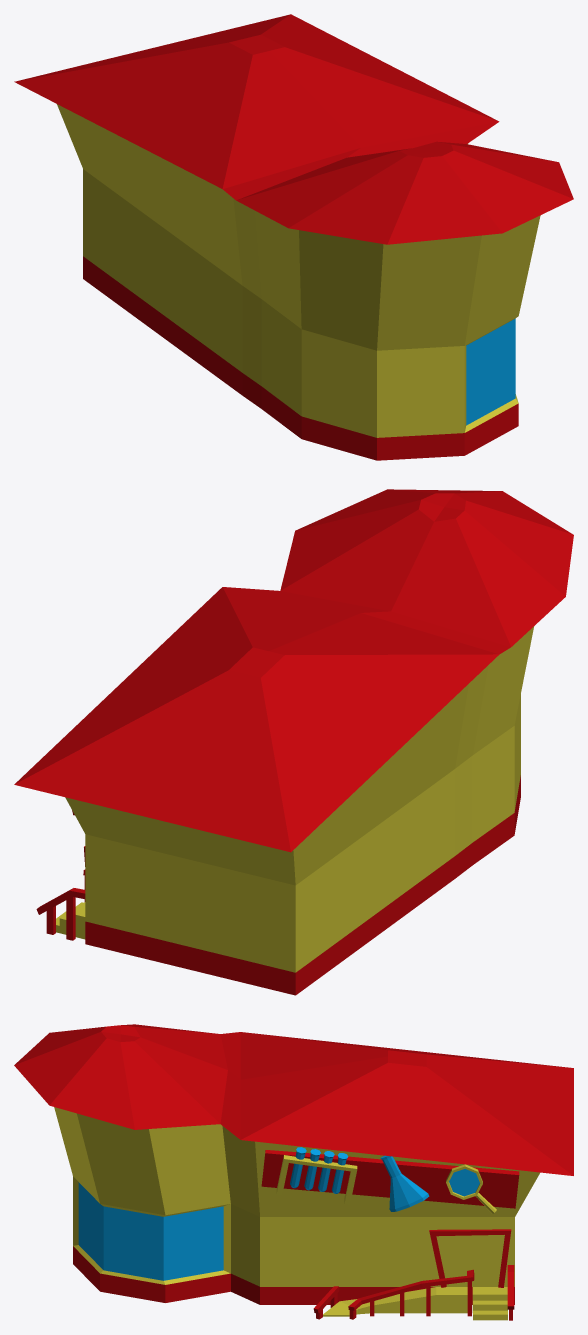
The model's file is 27.06_Bubuia_laboratorio1-1.fbx.
3 views of the same model, one above another, from view 1: azimuth 30°, elevation 25°; view 2: azimuth 150°, elevation 25°; view 3: azimuth 270°, elevation 25° (orthographic). The views are drawn at different scales.
Parts seen in each view (by area): view 1: Cube; view 2: Cube; view 3: Cube.
Part boxes in pixels (box(x1,y1,x2,y2)): Cube: box(14, 14, 573, 460); Cube: box(14, 489, 573, 995); Cube: box(14, 1024, 573, 1320).
Size of the model in its own units: 8.49 by 8.02 by 17.62.
